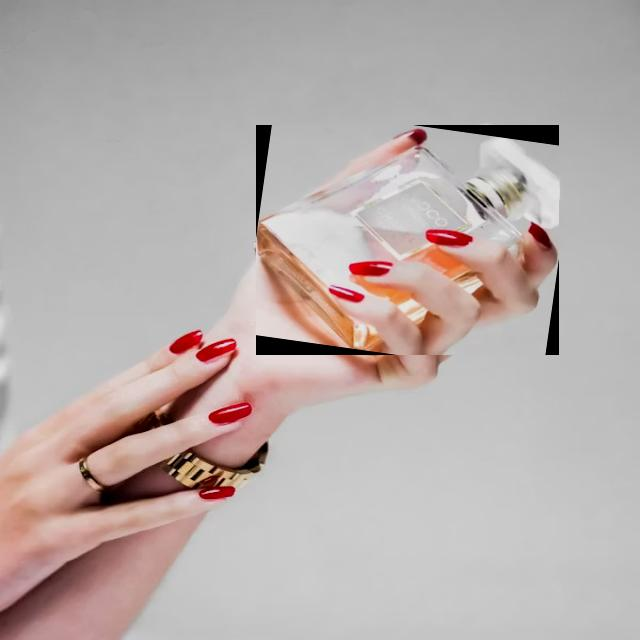Bottle: (256, 125, 558, 355)
